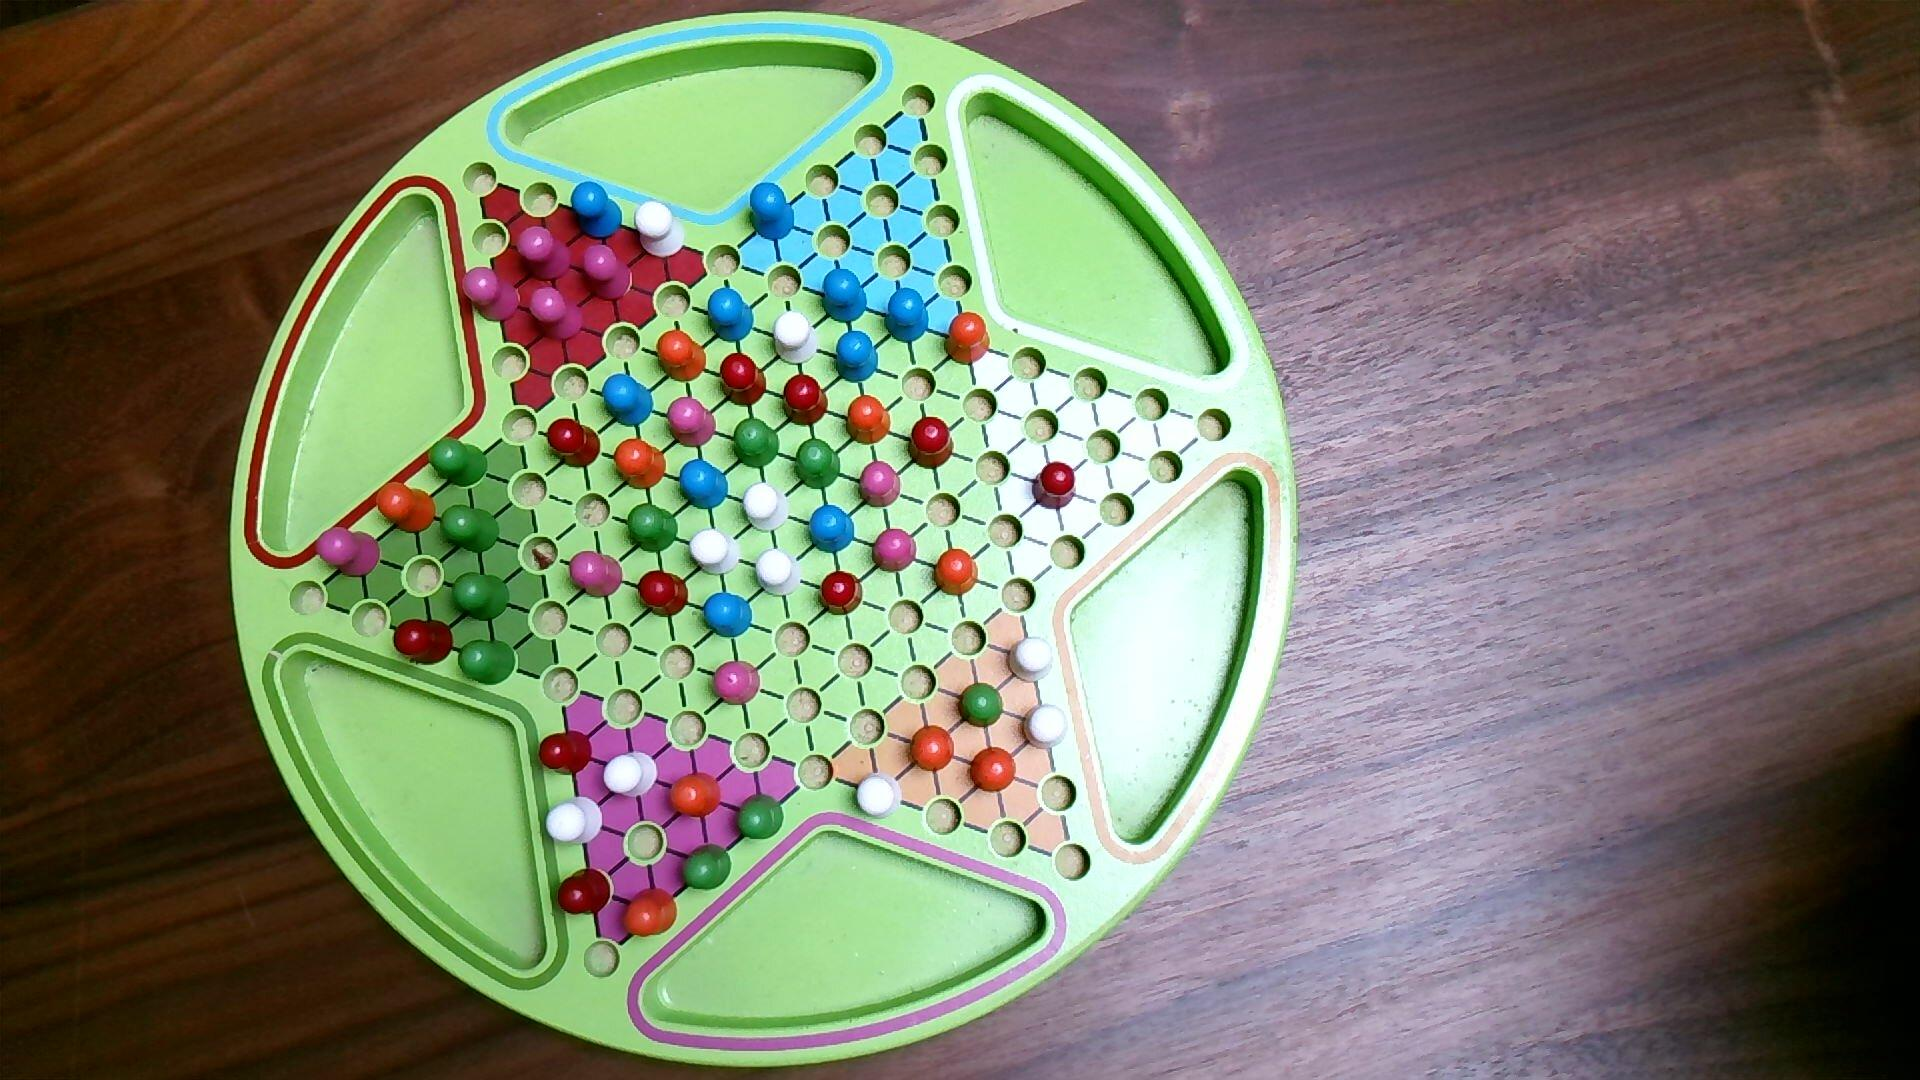B: (568, 179, 626, 243), (600, 373, 655, 429), (749, 179, 796, 244), (705, 285, 756, 345), (820, 266, 870, 326), (884, 286, 932, 347), (679, 456, 731, 513), (807, 501, 858, 556), (833, 328, 880, 386), (702, 591, 754, 641)
G: (450, 570, 514, 625), (427, 436, 491, 491), (439, 502, 502, 556), (458, 637, 520, 688), (625, 500, 680, 555), (680, 841, 735, 893), (793, 436, 843, 492), (735, 791, 787, 843), (732, 415, 781, 469), (956, 679, 1006, 731)
O: (375, 480, 439, 537), (621, 886, 680, 942), (613, 436, 669, 493), (666, 770, 725, 822), (655, 328, 709, 384), (943, 310, 993, 368), (845, 393, 894, 448), (932, 547, 982, 599), (909, 723, 957, 775), (969, 745, 1019, 795)
R: (545, 415, 604, 472), (555, 865, 617, 919), (393, 617, 456, 669), (905, 413, 957, 472), (717, 349, 770, 409), (537, 728, 596, 779), (781, 371, 831, 429), (638, 568, 691, 618), (1031, 458, 1080, 512), (818, 568, 865, 618)
R2: (313, 524, 384, 580), (460, 265, 524, 324), (527, 284, 587, 344), (513, 224, 574, 284), (580, 243, 634, 305), (567, 549, 626, 603), (666, 393, 719, 450), (712, 658, 764, 708), (870, 525, 920, 574), (858, 459, 905, 512)
W: (632, 199, 688, 258), (545, 794, 605, 847), (603, 750, 661, 800), (771, 309, 822, 367), (688, 525, 742, 578), (741, 479, 793, 534), (754, 545, 804, 599), (855, 770, 905, 822), (1007, 634, 1058, 686), (1022, 702, 1071, 753)
